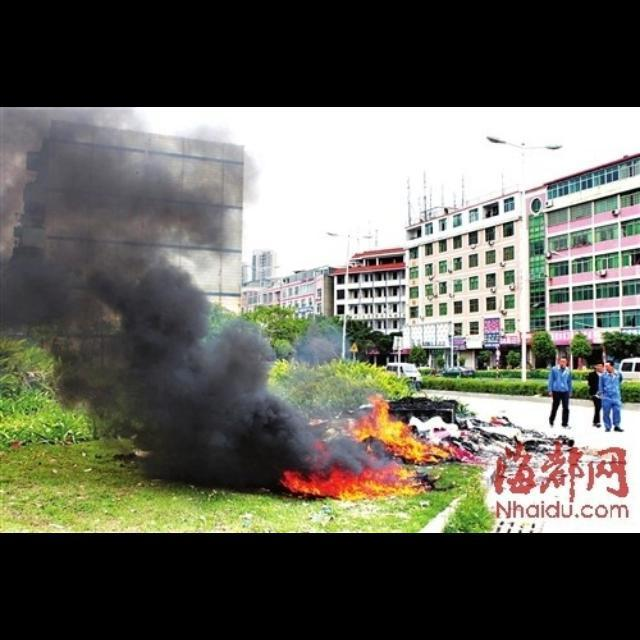Fire: (280, 396, 450, 502)
Smoke: (2, 109, 314, 457)
